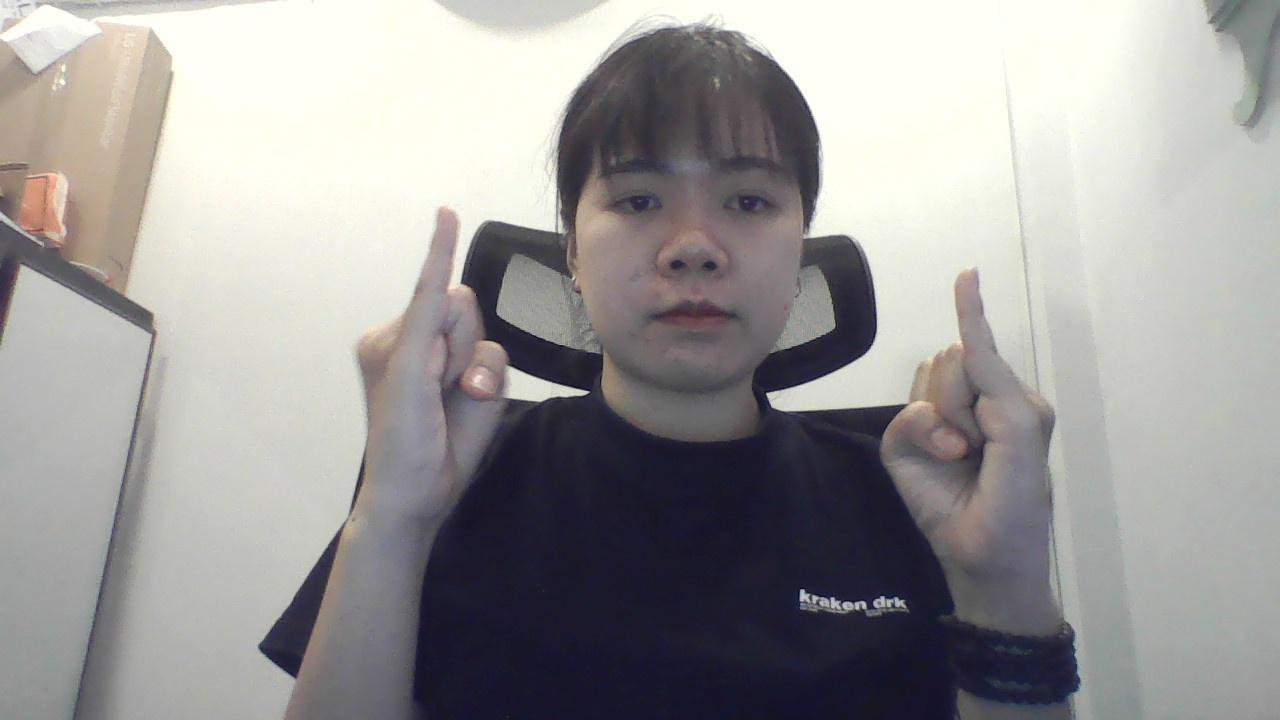I: (339, 190, 524, 558), (884, 247, 1069, 605)
